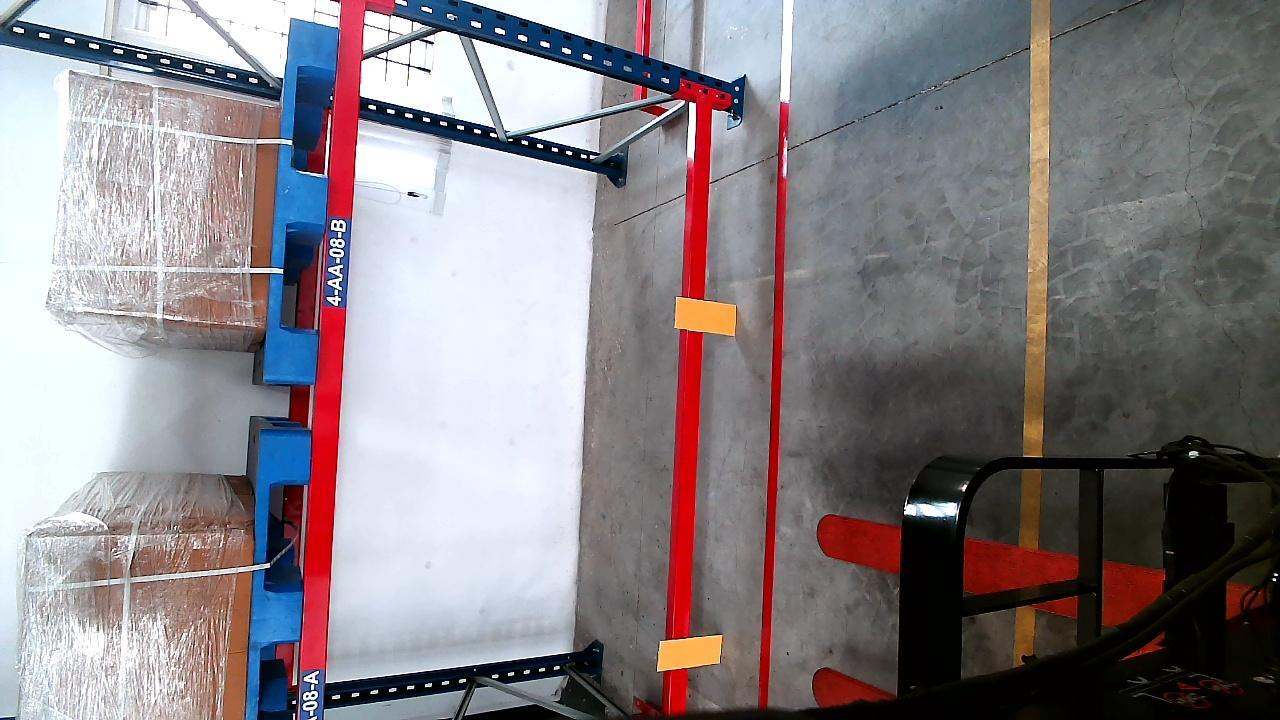red_line: (756, 97, 796, 705)
yellow_line: (1023, 0, 1052, 513)
